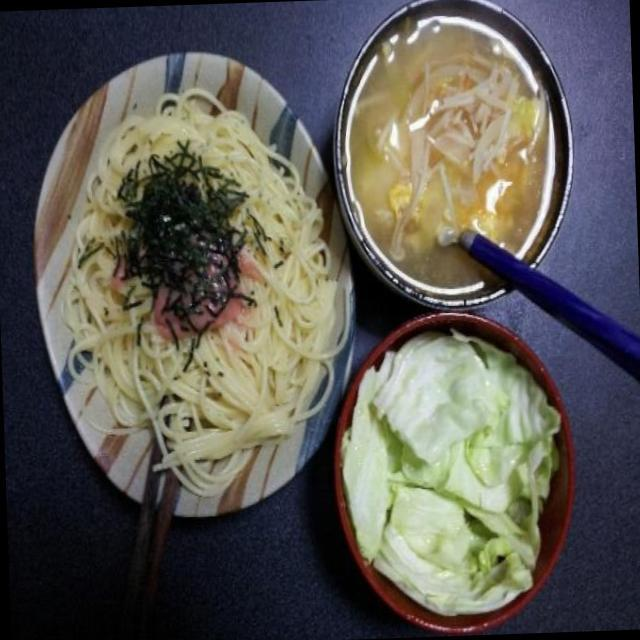Pasta: (62, 100, 314, 465)
